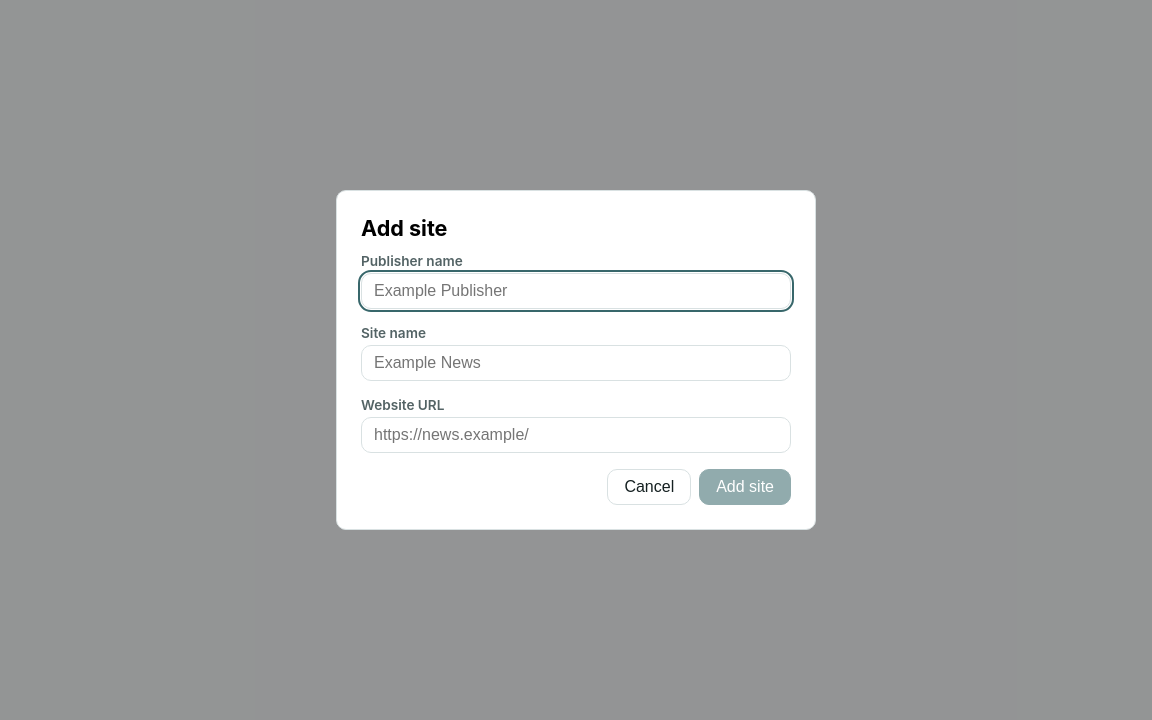
it: AddSiteDialog › shows sanitized error for 409 duplicate registration
This screenshot has width=1152, height=720.
Type "Ex" into the field labelled "Publisher name" at (576, 291), box [361,273,791,309]
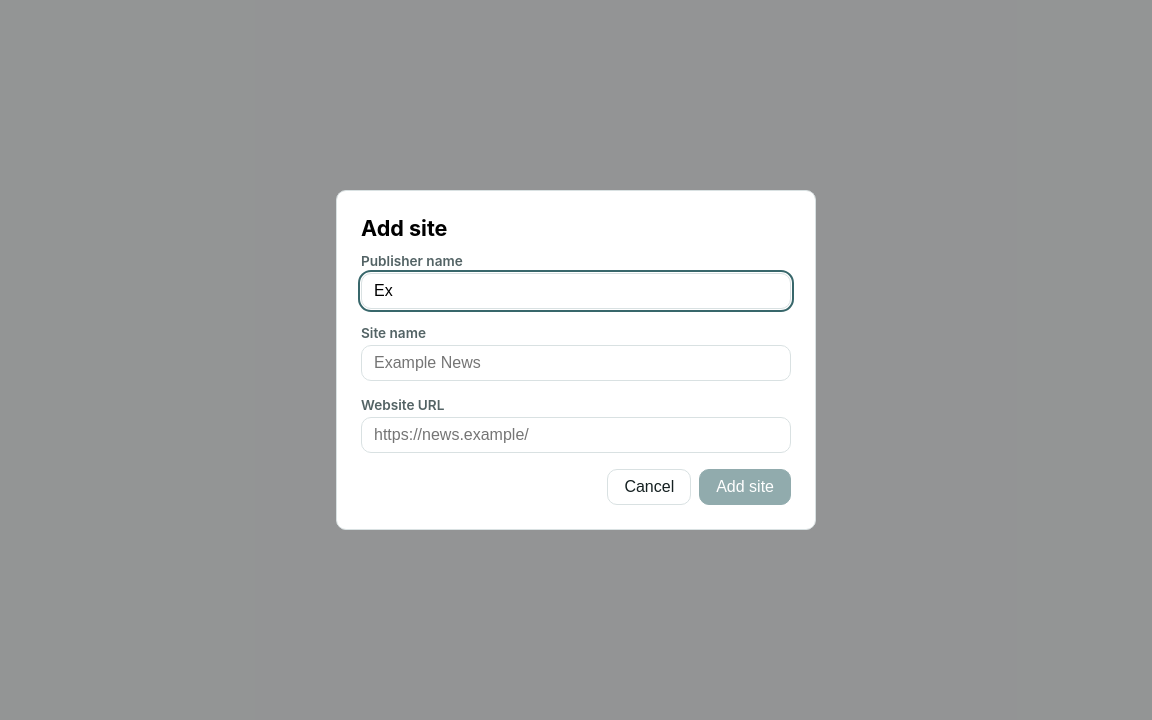
Type "Site" into the field labelled "Site name" at (576, 363), box [361,345,791,381]
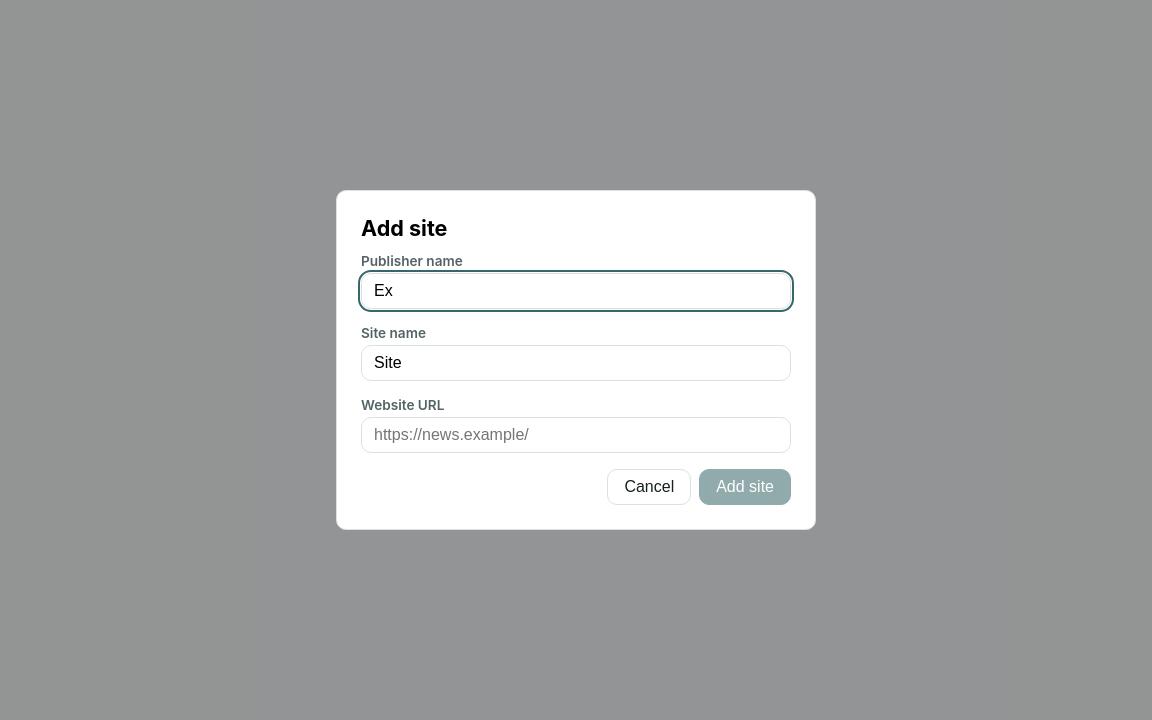
Type "https://dup.com" into the field labelled "Website URL" at (576, 435), box [361,417,791,453]
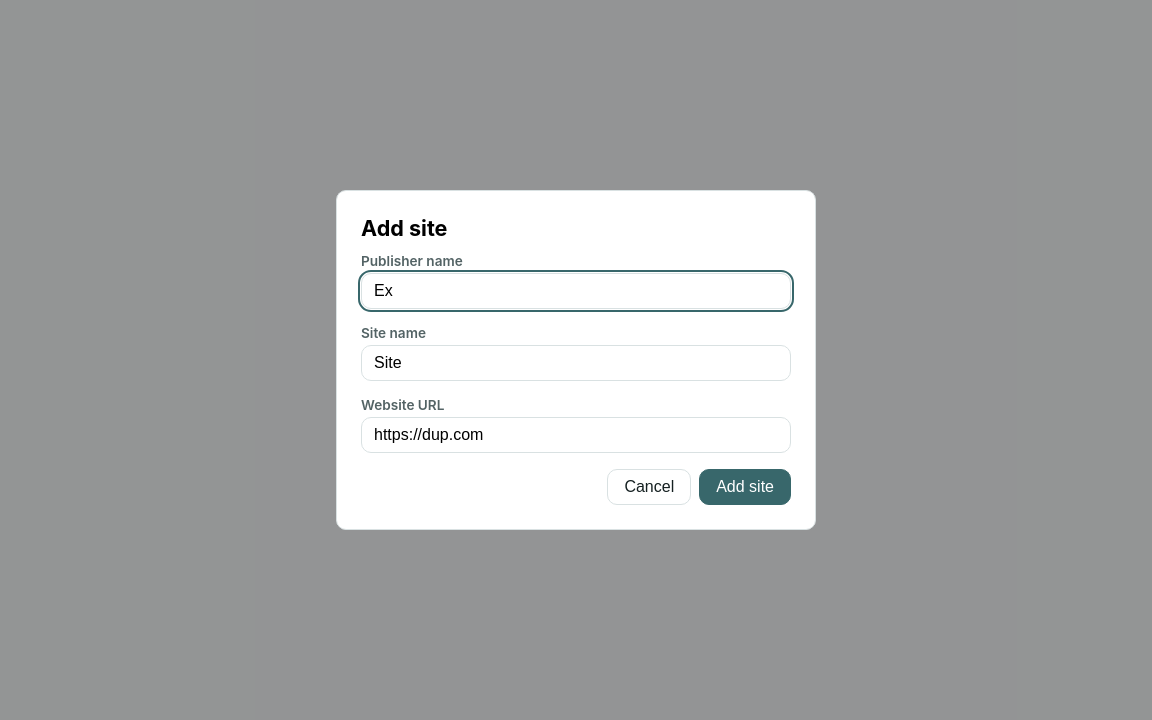
Submit the form, box [361,215,791,505]
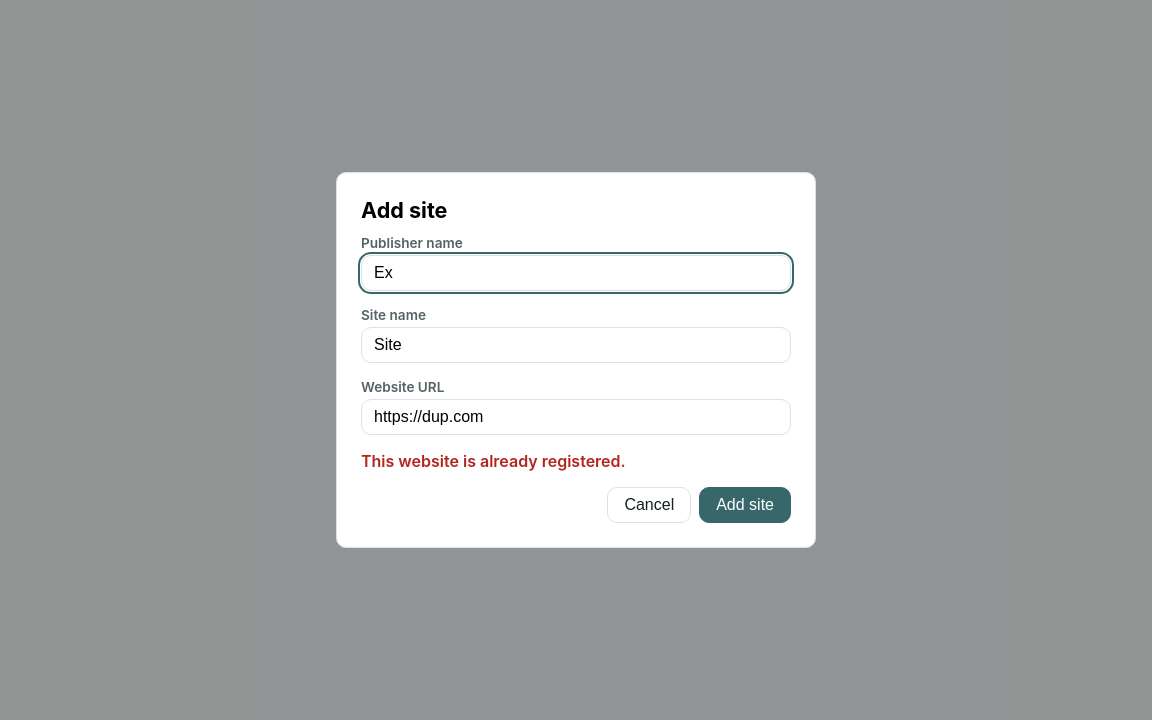
Now the text "This website is already registered." is shown, box [361,451,626,471]
